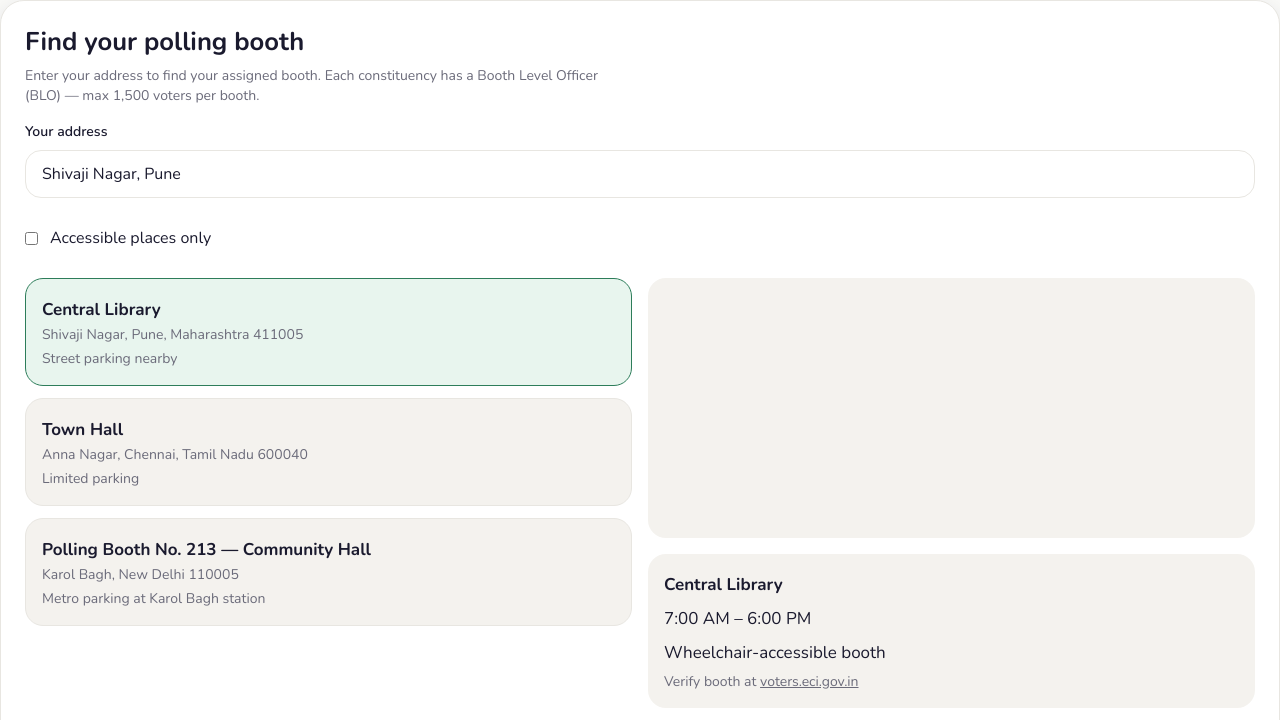
Scenario: PollingFinder › renders fallback polling locations and filters accessible places
The image size is (1280, 720).
Check: the 1st text "Central Library" is shown, box [42,298,161,321]
Click the checkbox labelled "Accessible places only".
click(32, 238)  # box [25,232,38,245]
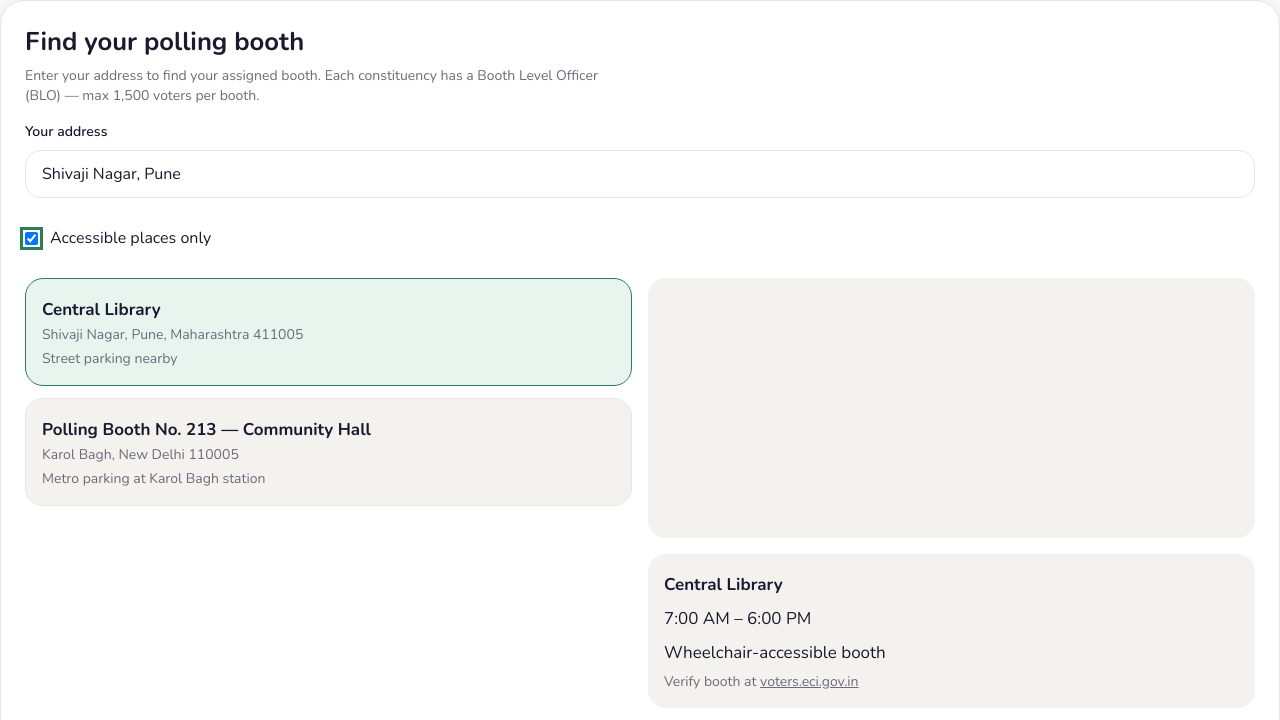
Check: the button "Town Hall" is gone
